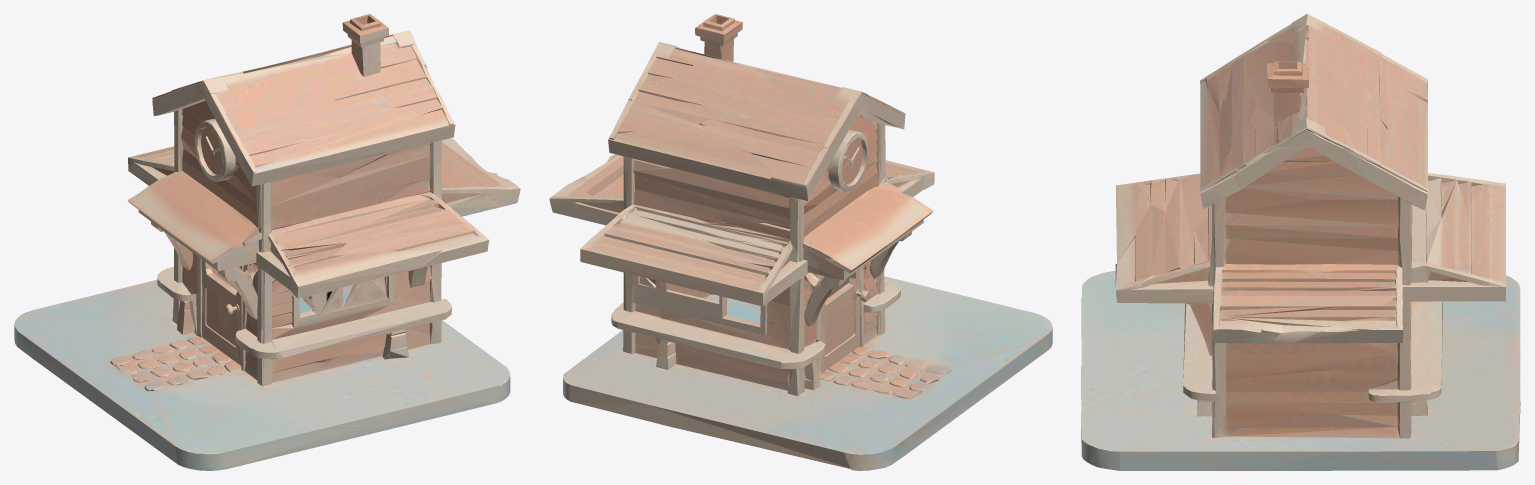
The model's file is station.5442f8e0.glb.
3 renders of one model, left to right at view 1: azimuth 30°, elevation 25°; view 2: azimuth 150°, elevation 25°; view 3: azimuth 270°, elevation 25°, orthographic. The views are drawn at different scales.
Visible parts, largest first — view 1: output_unwrapped; view 2: output_unwrapped; view 3: output_unwrapped.
Boxes of the visible parts, <box> form: output_unwrapped: <box>14,14,520,470</box>; output_unwrapped: <box>549,14,1052,470</box>; output_unwrapped: <box>1081,14,1520,470</box>.
Bounding box in the file's own units: 1.9 × 1.54 × 1.66.
Materials: 1 (1 with a texture image).
